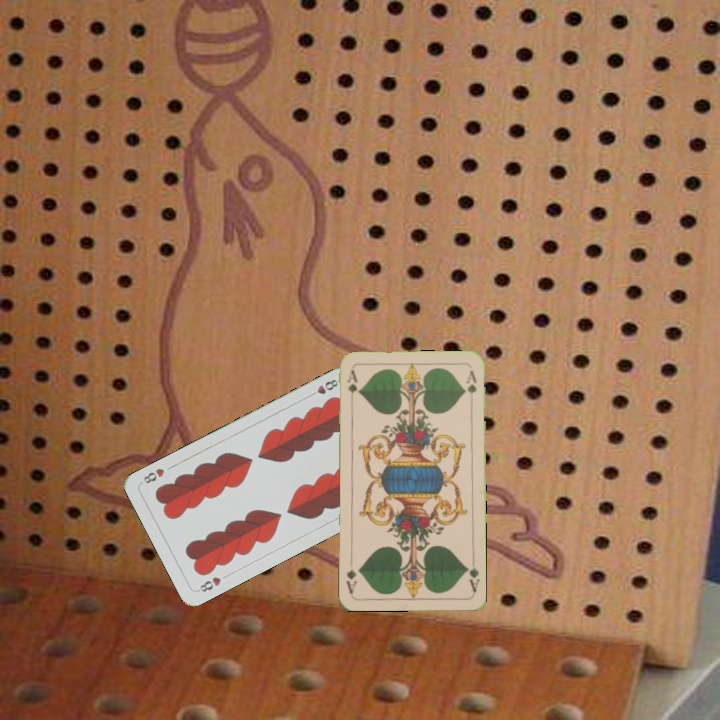GA: (462, 554, 482, 594), (343, 366, 360, 406)
H8: (305, 375, 343, 400), (193, 573, 224, 595)
